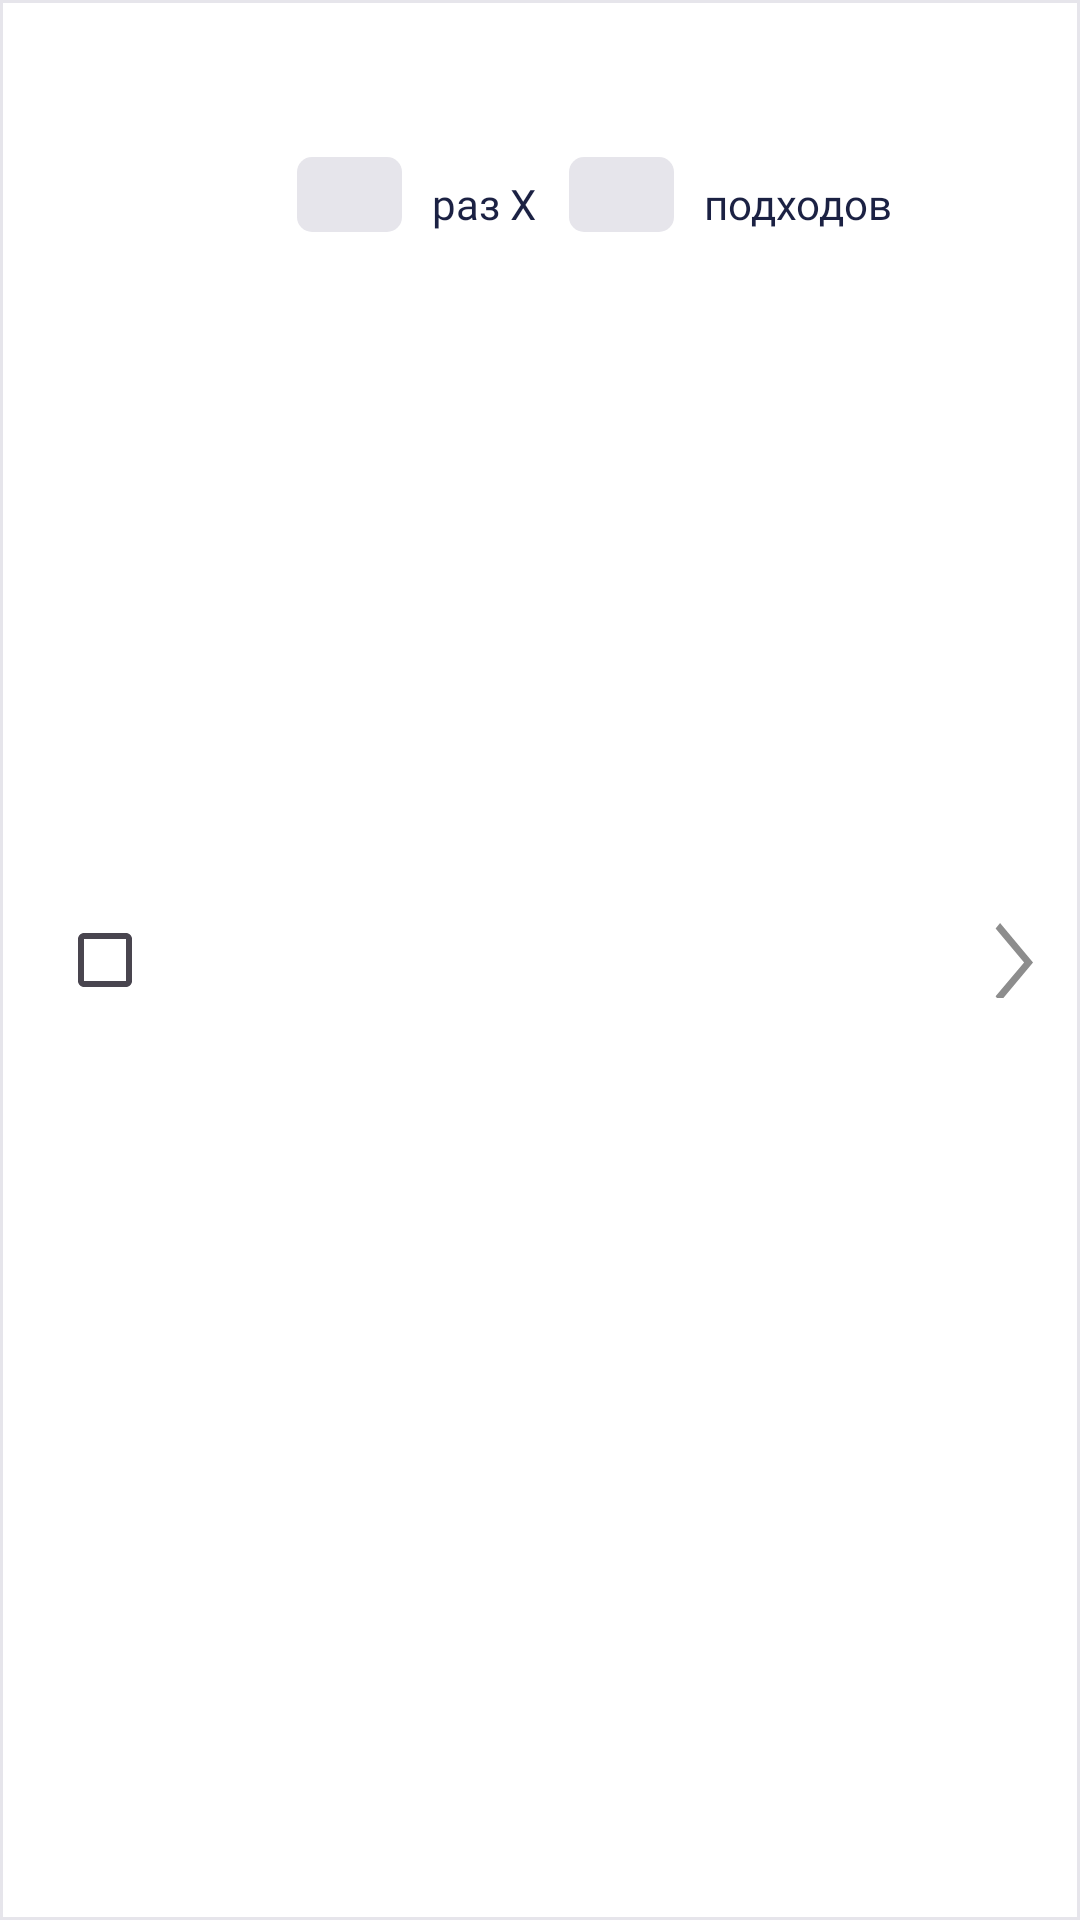

Where to tap for icons on this 1080×1920 app screen, as [x,y]:
chevron right: [1014,960]
